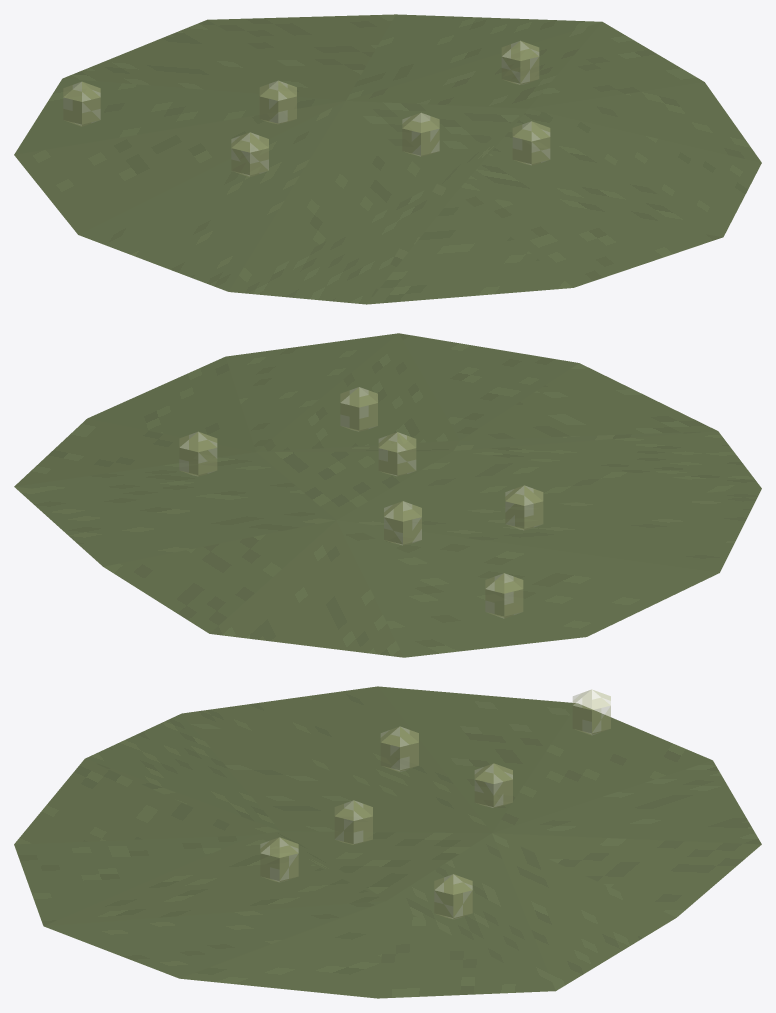
The model's file is f_swamp_gas.glb.
3 views of the same model, one above another, from view 1: azimuth 30°, elevation 25°; view 2: azimuth 150°, elevation 25°; view 3: azimuth 270°, elevation 25° (orthographic). The views are drawn at different scales.
Visible parts, largest first — view 1: block_murky-water-pool, block_swamp-bubble (×6); view 2: block_murky-water-pool, block_swamp-bubble (×6); view 3: block_murky-water-pool, block_swamp-bubble (×6).
Boxes of the visible parts, x1,y1,x2,y2 form: block_murky-water-pool: (14,14,761,304); block_swamp-bubble (×6): (63,40,550,176); block_murky-water-pool: (14,333,761,657); block_swamp-bubble (×6): (179,387,543,618); block_murky-water-pool: (14,686,761,998); block_swamp-bubble (×6): (260,689,610,919).
Bounding box in the file's own units: 0.8113 × 0.062 × 0.8216.
Materials: 2 (2 with a texture image).
